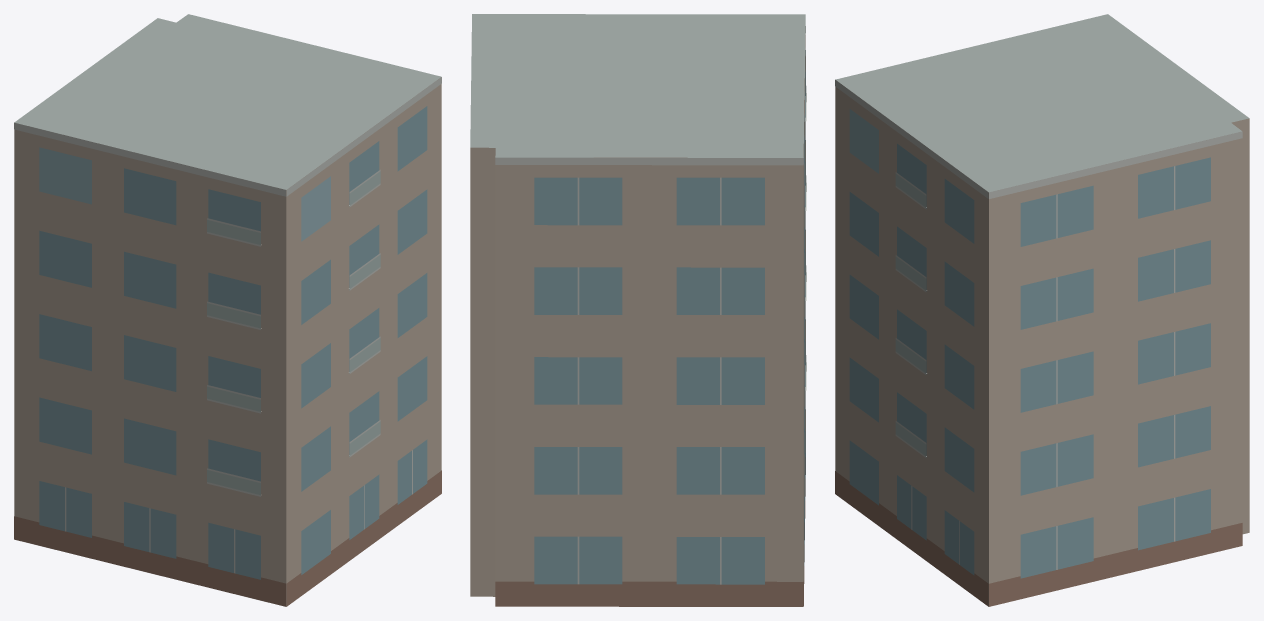
Rendered from survey-upis-32713779.glb.
3 renders of one model, left to right at view 1: azimuth 30°, elevation 25°; view 2: azimuth 150°, elevation 25°; view 3: azimuth 270°, elevation 25°, orthographic. The views are drawn at different scales.
Visible parts, largest first — view 1: survey-upis-32713779.tmp; view 2: survey-upis-32713779.tmp; view 3: survey-upis-32713779.tmp.
Part boxes in pixels (bbox=[...]): survey-upis-32713779.tmp: bbox=[14, 14, 441, 606]; survey-upis-32713779.tmp: bbox=[470, 14, 806, 606]; survey-upis-32713779.tmp: bbox=[835, 14, 1249, 606].
Bounding box in the file's own units: 13.67 × 14.8 × 13.42.
